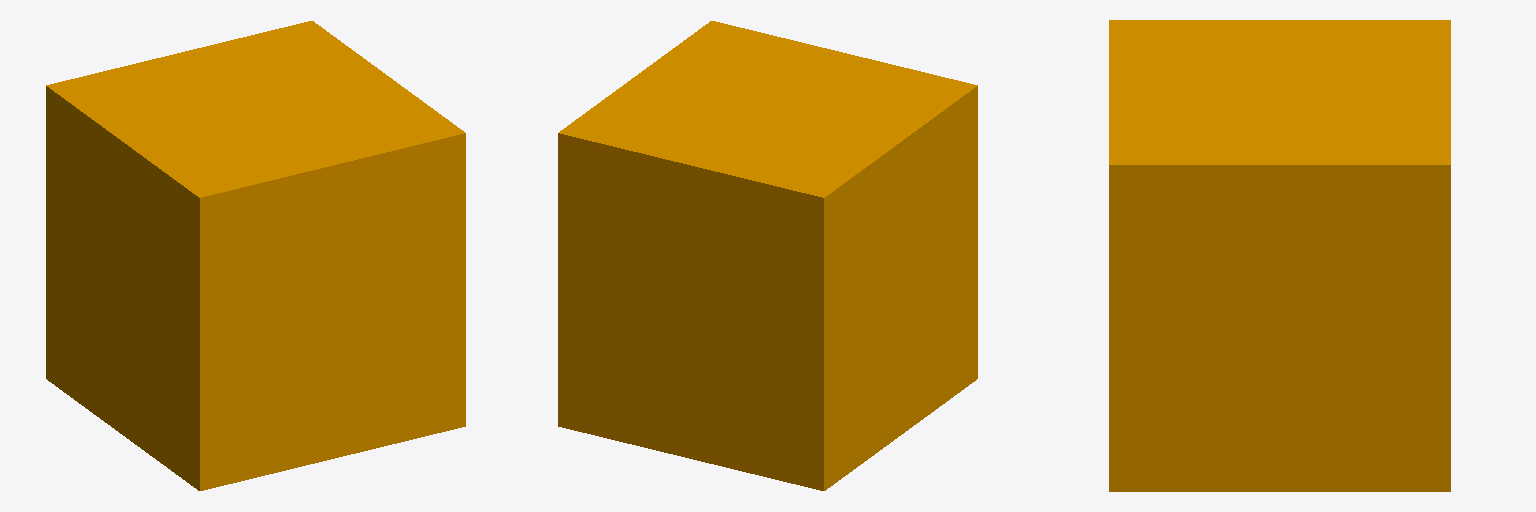
URDF robot description (object):
<robot name="object">
  <link name="object">
    <visual>
      <origin xyz="0 0 0" />
      <geometry>
        <box size="0.07600000000000001 0.07600000000000001 0.08" />
      </geometry>
    </visual>

    <collision>
      <origin xyz="0 0 0" />
      <geometry>
        <box size="0.07600000000000001 0.07600000000000001 0.08" />
      </geometry>
    </collision>

    <inertial>
      <mass value="0.05" />
      <inertia ixx="0.0001" ixy="0.0" ixz="0.0" iyy="0.0001" iyz="0.0" izz="0.0001" />
    </inertial>
  </link>
</robot>

--- What the picture shows (computed from the rendered views, not written in the file) ---
3 views of the same robot in one strip: view 1: azimuth 30°, elevation 25°; view 2: azimuth 150°, elevation 25°; view 3: azimuth 270°, elevation 25° (orthographic).
Robot: object — 1 links, 0 joints (none); root link object; default pose: all joints at 0.
Links seen in each view (by area): view 1: object; view 2: object; view 3: object.
Boxes of the visible links, <box> form: object: <box>46,21,465,490</box>; object: <box>558,21,977,490</box>; object: <box>1109,20,1450,491</box>.
Size in the robot's own frame: 0.076 by 0.076 by 0.08 metres.
Geometry: primitives only (box / cylinder / sphere), no mesh files.